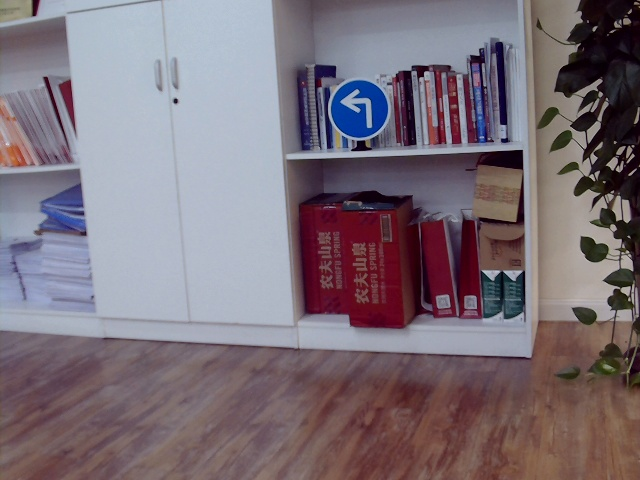turn_left: (338, 87, 376, 126)
